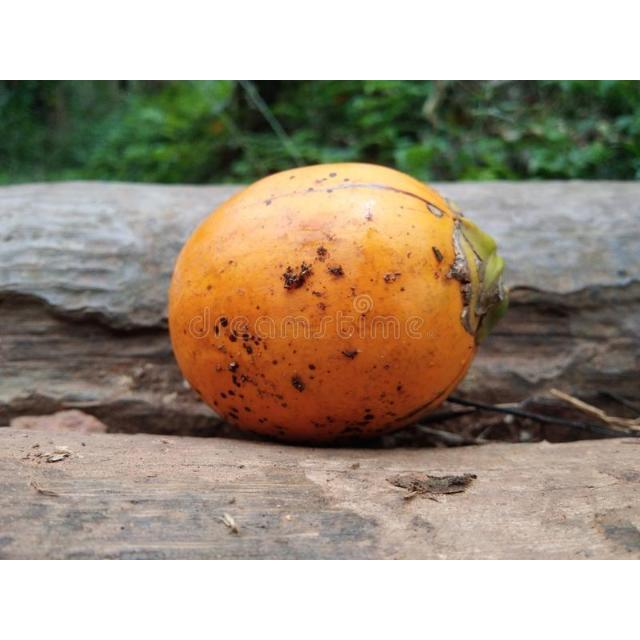good: (166, 162, 506, 446)
